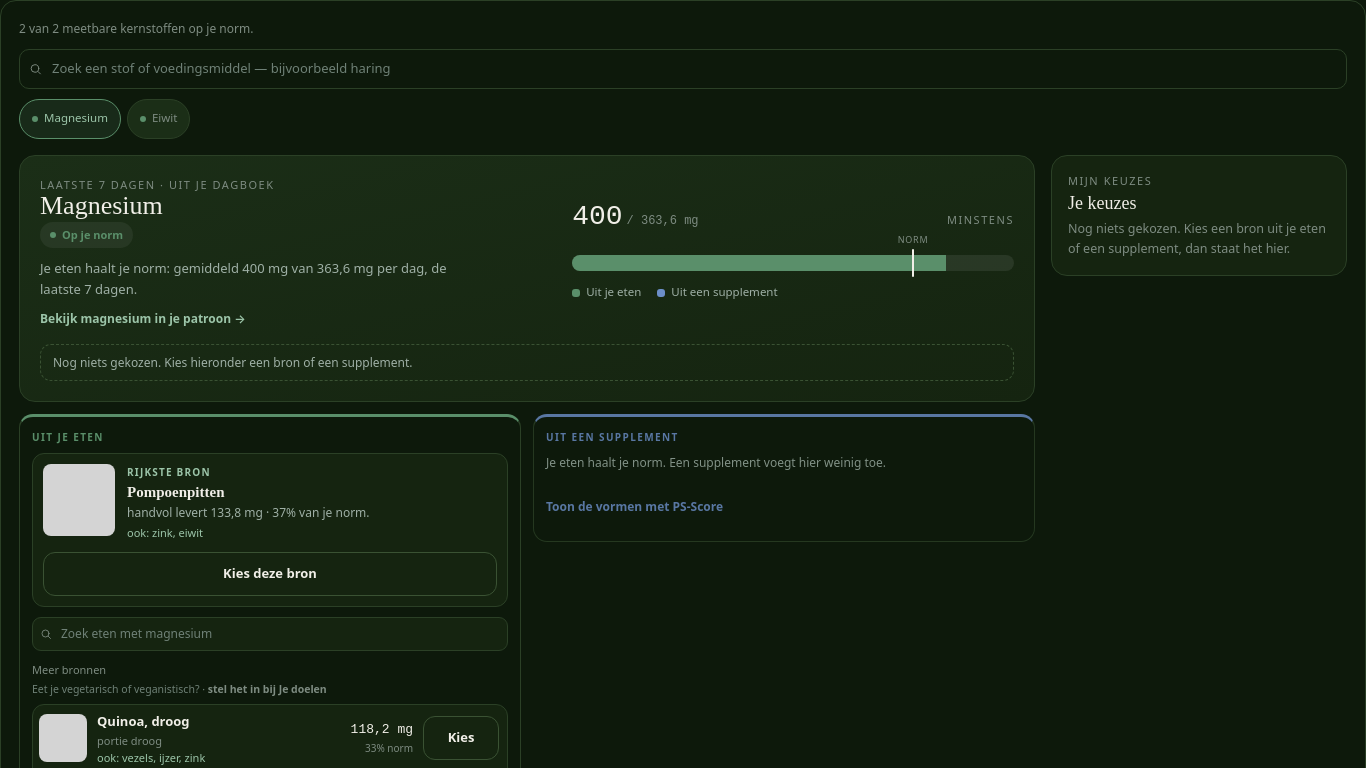
Scenario: KeuzeVergelijken › houdt de supplementkant rustig en ingeklapt als je eten de norm haalt
Expected: the text "Je eten haalt je norm. Een supplement voegt hier weinig toe." is shown, [546, 454, 886, 471]
Expected: the text "Per vorm de hoogste PS-Score" is not shown
Click the button "Toon de vormen met PS-Score". click: click(635, 507)
box: [546, 485, 723, 529]
(page scrolled)
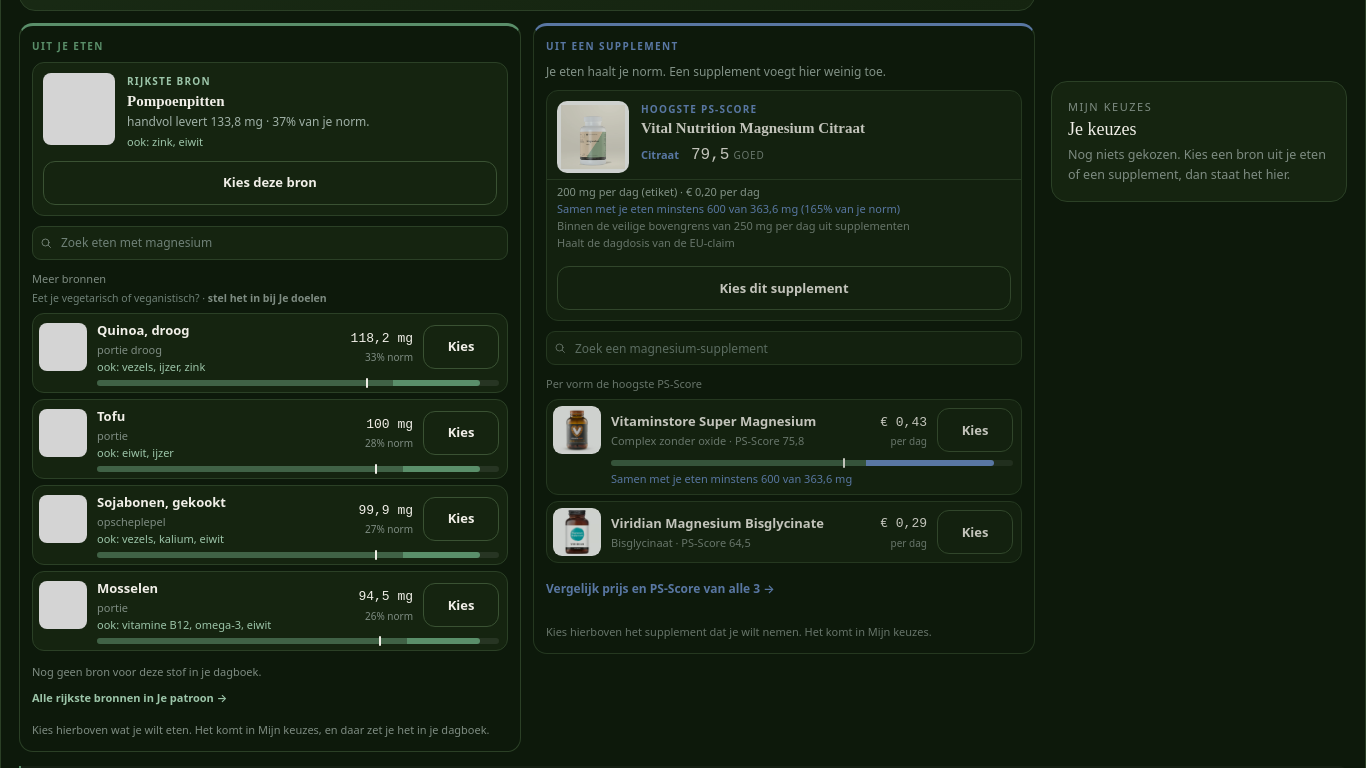
Now the text "Per vorm de hoogste PS-Score" is shown, box [546, 376, 702, 391]
